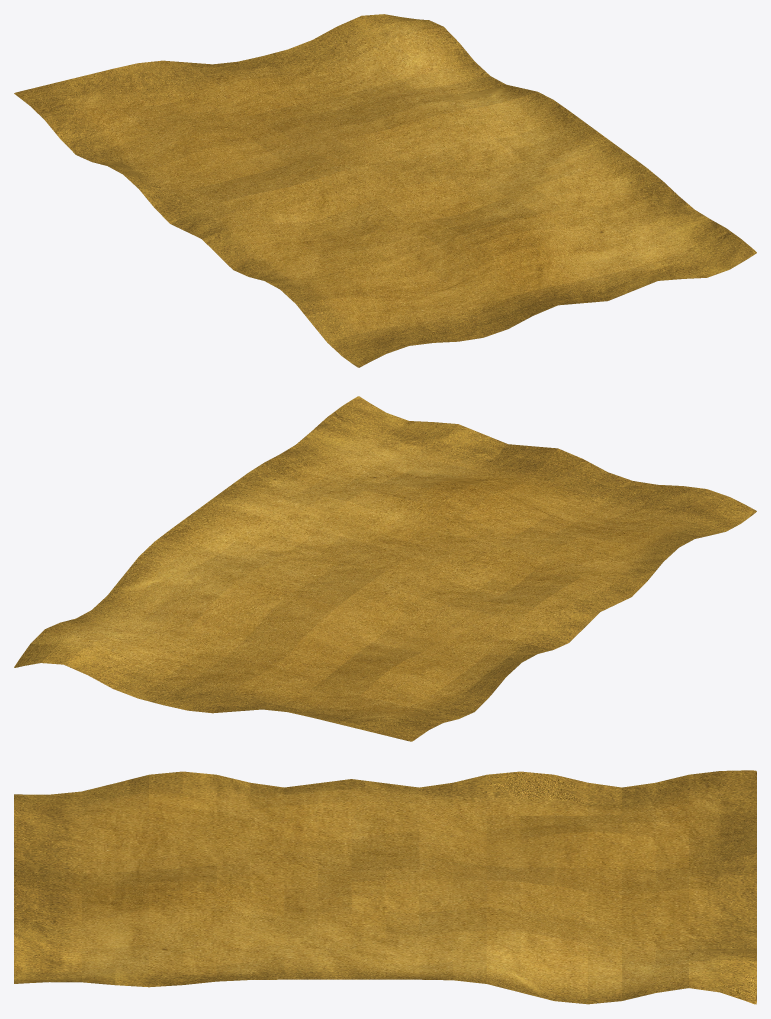
The model's file is calendario.fbx.
The picture shows the model from 3 angles, top to bottom: view 1: azimuth 30°, elevation 25°; view 2: azimuth 150°, elevation 25°; view 3: azimuth 270°, elevation 25°; orthographic projection. The views are drawn at different scales.
Parts seen in each view (by area): view 1: Plane; view 2: Plane; view 3: Plane.
Boxes of the visible parts, bbox=[...] form: Plane: bbox=[14, 14, 756, 367]; Plane: bbox=[14, 396, 756, 741]; Plane: bbox=[14, 770, 756, 1004].
Bounding box in the file's own units: 200 × 11.42 × 300.
